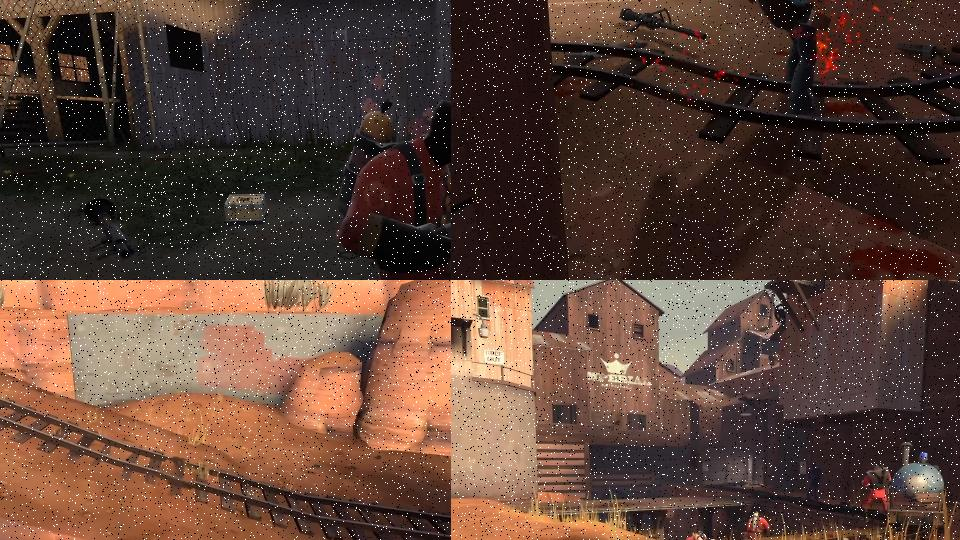Enemy: (334, 95, 451, 280), (731, 0, 833, 116), (859, 460, 893, 524), (734, 508, 772, 540), (803, 461, 824, 504), (685, 528, 719, 540)
